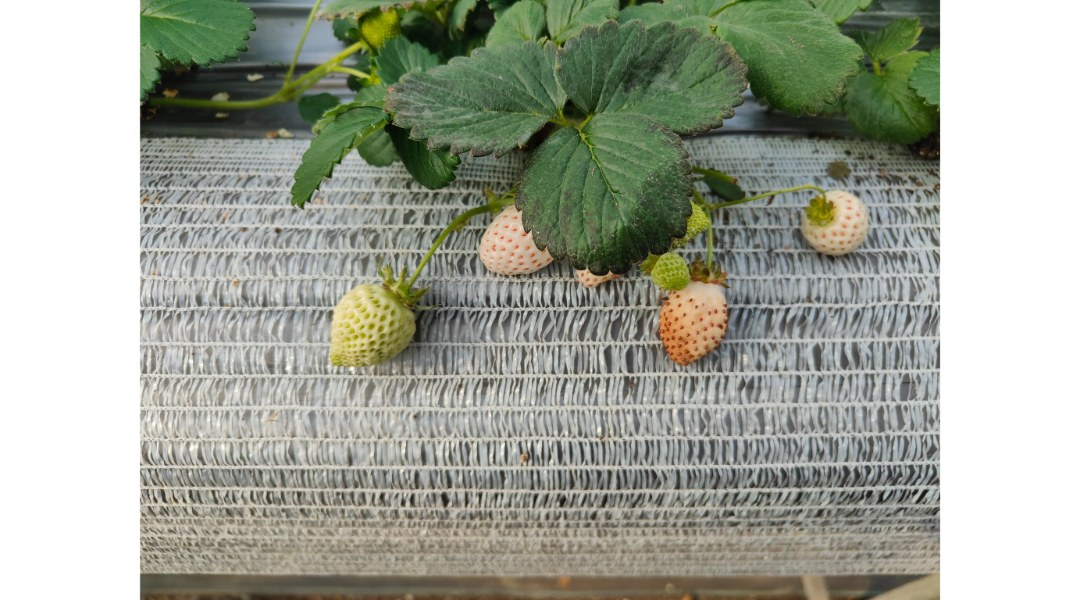berry: (320, 268, 422, 376), (655, 268, 733, 375), (477, 199, 564, 275), (798, 174, 869, 260), (648, 251, 694, 289)
strain: (406, 219, 463, 293), (713, 177, 829, 202), (704, 195, 716, 279)
